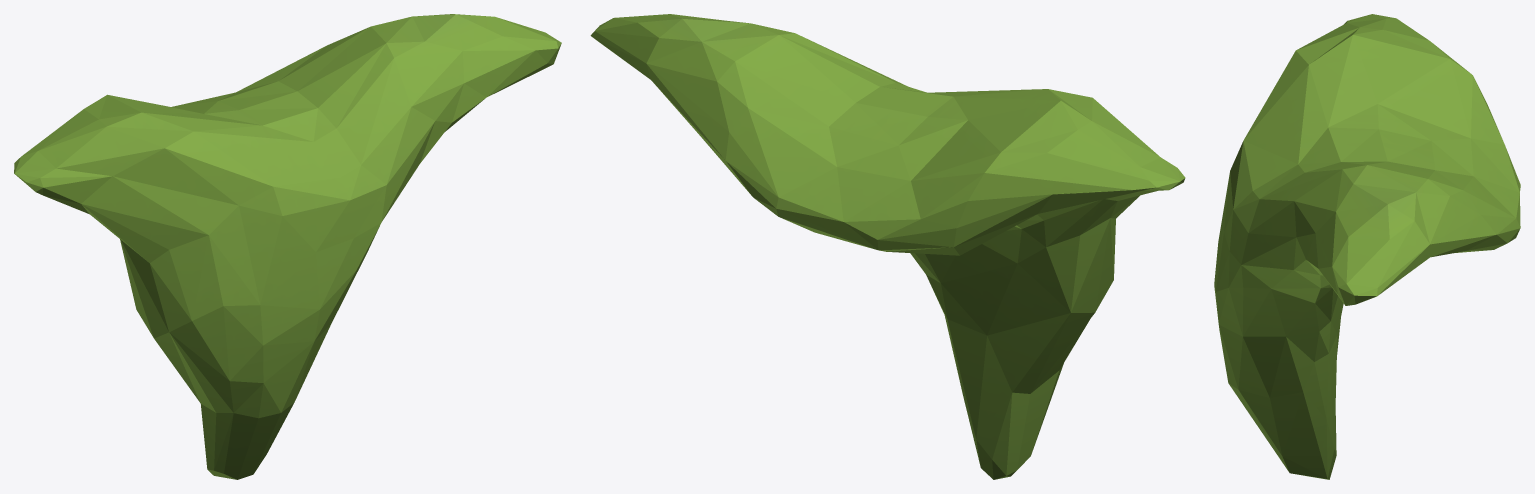
File: Cavern_BushTopper-02.fbx
3 views of the same model, side by side, from view 1: azimuth 30°, elevation 25°; view 2: azimuth 150°, elevation 25°; view 3: azimuth 270°, elevation 25° (orthographic). The views are drawn at different scales.
Parts seen in each view (by area): view 1: Cavern_BushTopper-02; view 2: Cavern_BushTopper-02; view 3: Cavern_BushTopper-02.
Part boxes in pixels (box(x1,y1,x2,y2)): Cavern_BushTopper-02: box(14, 14, 561, 479); Cavern_BushTopper-02: box(590, 14, 1185, 479); Cavern_BushTopper-02: box(1214, 14, 1520, 479).
Size of the model in its own units: 477 by 320 by 215.
1 material, 1 textured.
